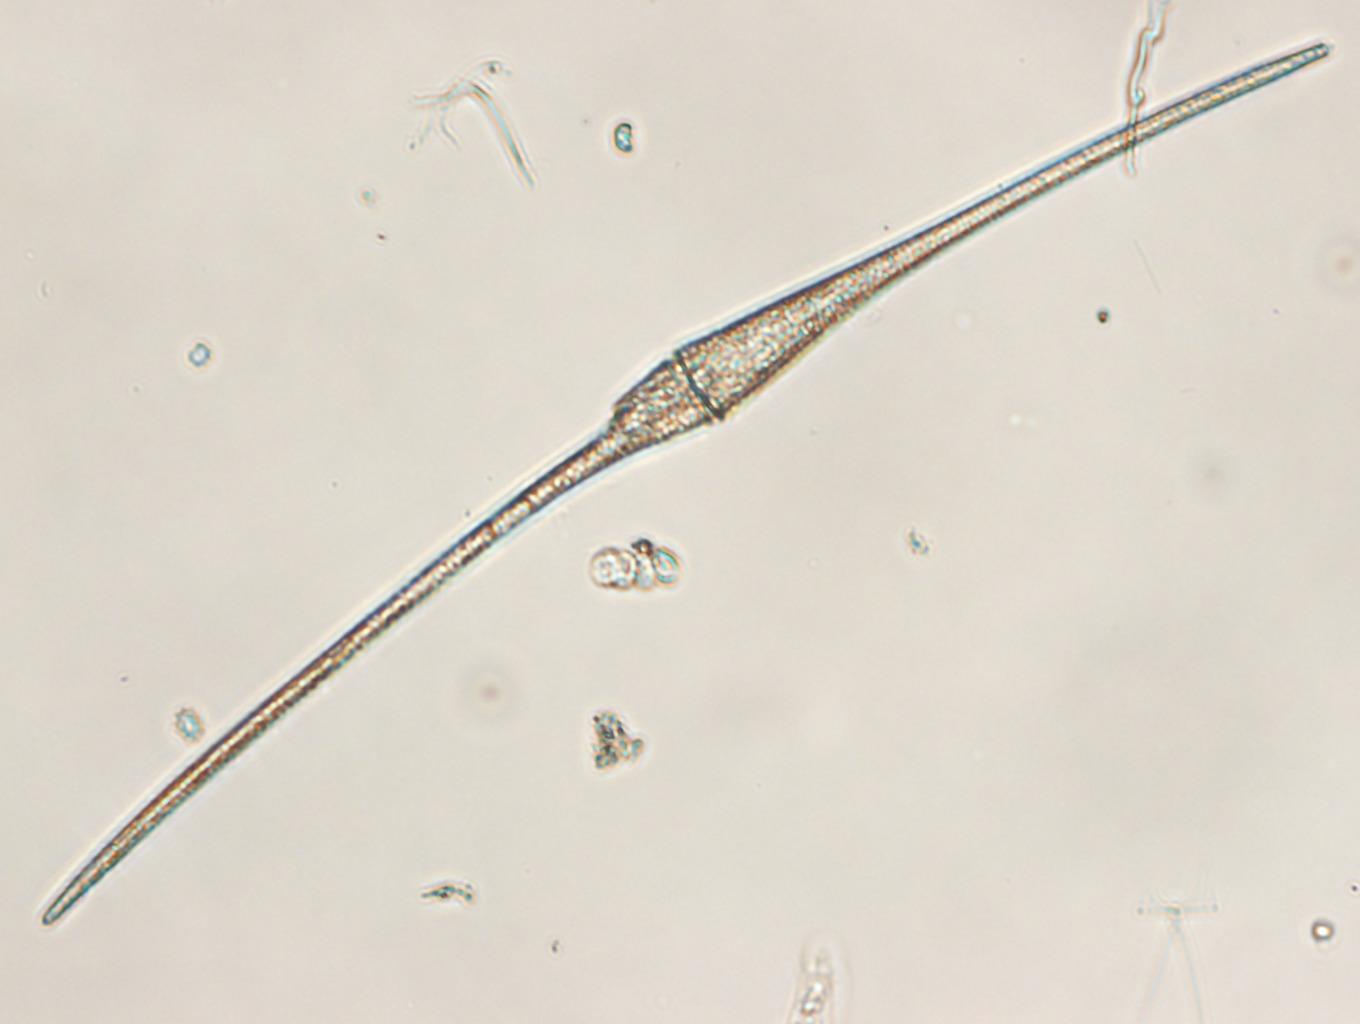ceratium fusus: (41, 42, 1332, 925)
